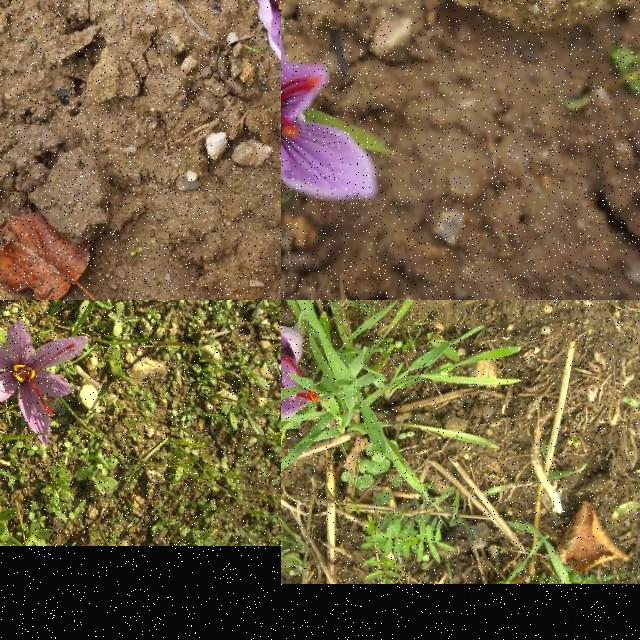flower: (281, 0, 376, 199), (0, 319, 89, 446), (281, 323, 320, 418), (251, 0, 281, 75)
